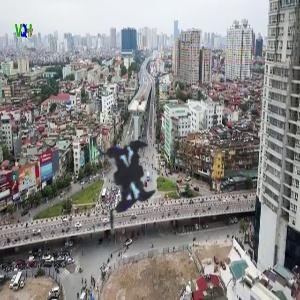drone: (36, 90, 212, 266)
